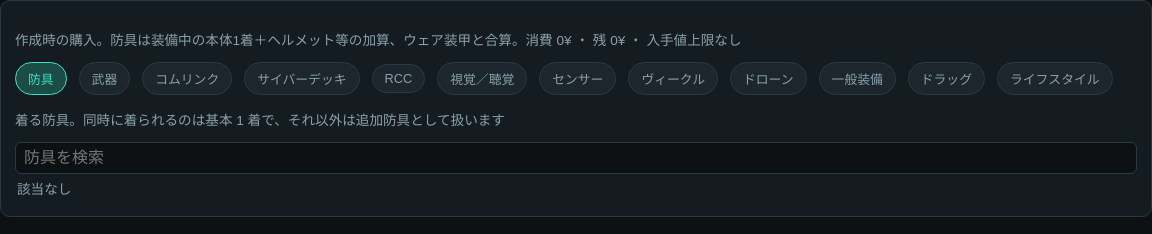
Test: <GearTab> › swaps the sub-panel when another kind tab is clicked
Click the button "武器" at (104,79), box [79,62,130,95]
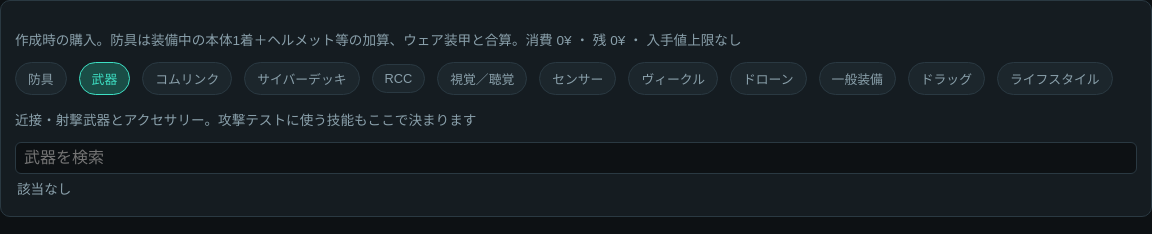
Now the search field with placeholder "武器を検索" is shown, box [15,142,1137,174]
Now the search field with placeholder "防具を検索" is gone
